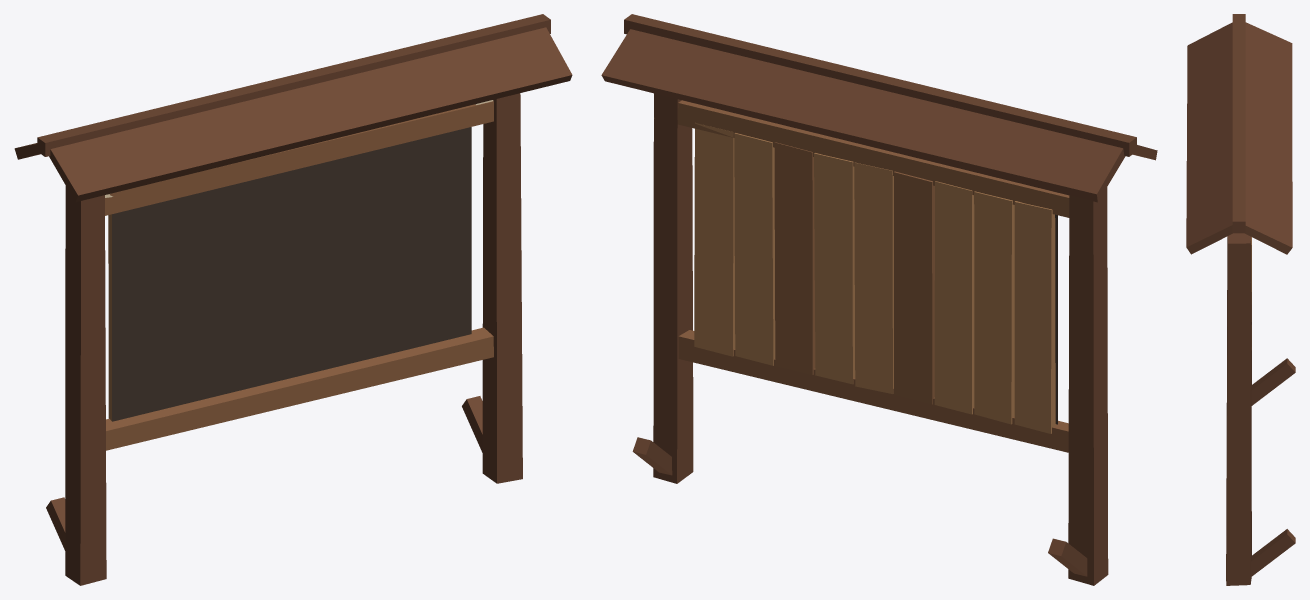
Rendered from NoticeBoard.fbx.
The picture shows the model from 3 angles, left to right: view 1: azimuth 30°, elevation 25°; view 2: azimuth 150°, elevation 25°; view 3: azimuth 270°, elevation 25°; orthographic projection. The views are drawn at different scales.
Visible parts, largest first — view 1: NoticeBoard_Frame, NoticeBoard_Panel; view 2: NoticeBoard_Frame; view 3: NoticeBoard_Frame.
Boxes of the visible parts, box(x1,y1,x2,y2) form: NoticeBoard_Frame: box(14, 14, 572, 585); NoticeBoard_Panel: box(112, 127, 471, 421); NoticeBoard_Frame: box(601, 14, 1157, 585); NoticeBoard_Frame: box(1186, 14, 1295, 585).
Size of the model in its own units: 4.5 by 3.82 by 1.
